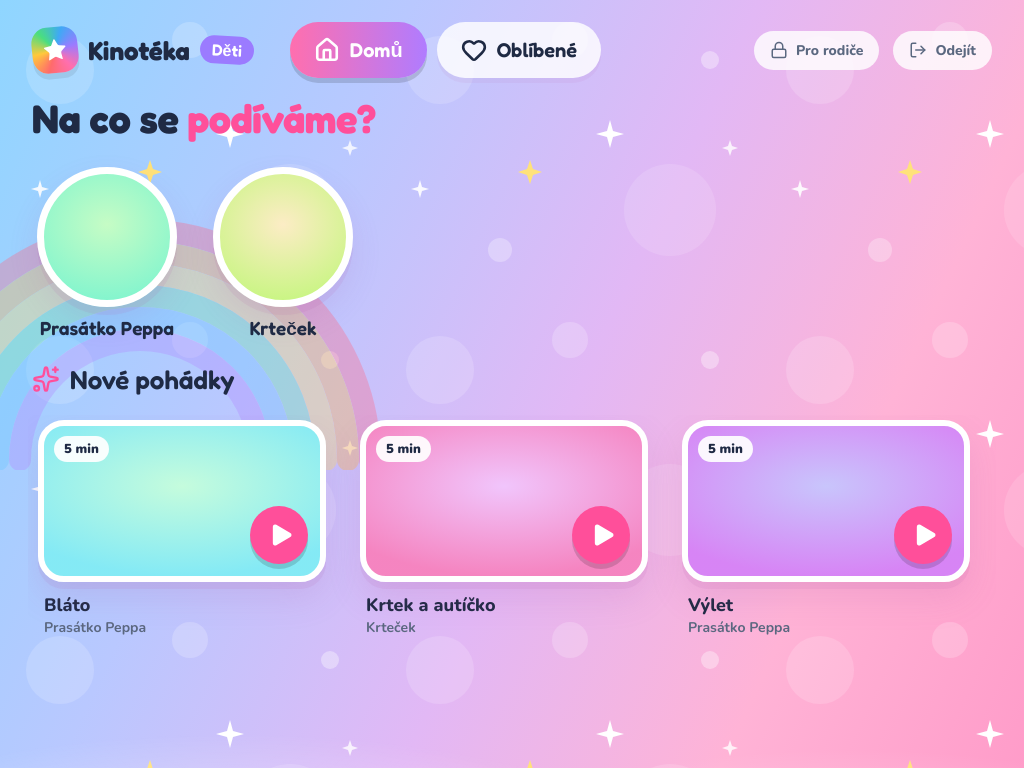
Test: KidsApp › vstup zamkne dětský režim; Pro rodiče chce PIN
The width and height of the screenshot is (1024, 768).
Later steps or results of the test are not shown.
What coordinates should you click on to do the following:
click the button "Pro rodiče"
I would click on:
 (817, 50)
Its box is top-left (754, 30), bottom-right (879, 70).
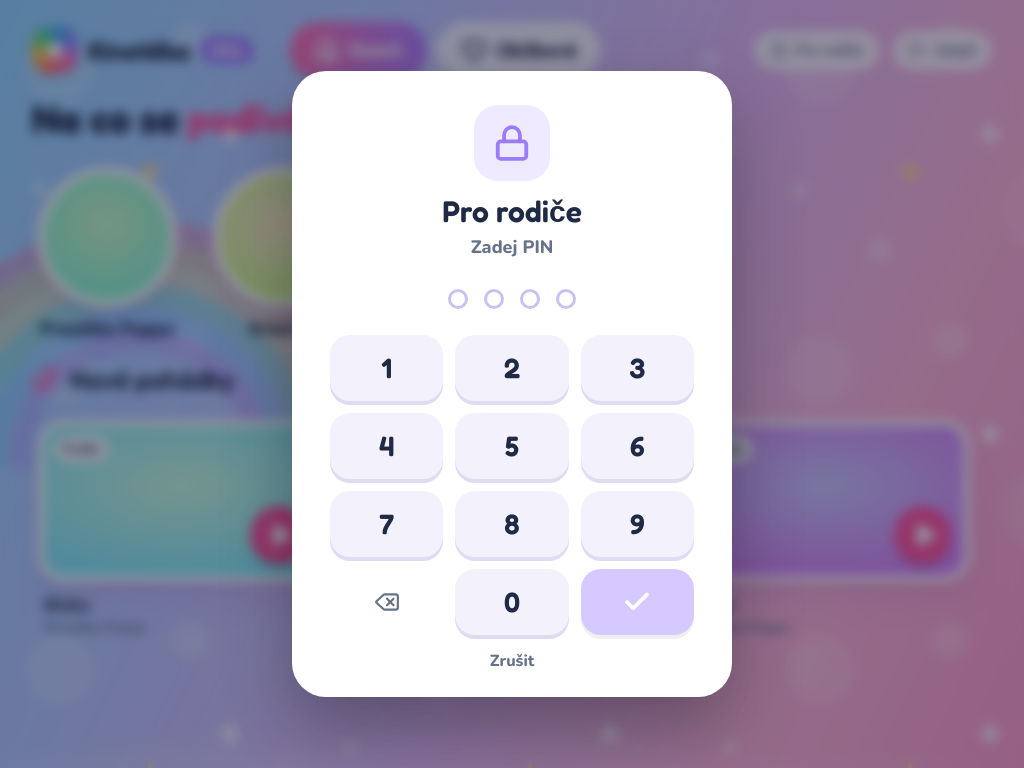
Expected: the text "Zadej PIN" is shown, top-left (471, 235), bottom-right (553, 259)
What coordinates should you click on to do the following:
click the button "1"
I would click on:
 (387, 368)
Its box is top-left (330, 335), bottom-right (443, 401).
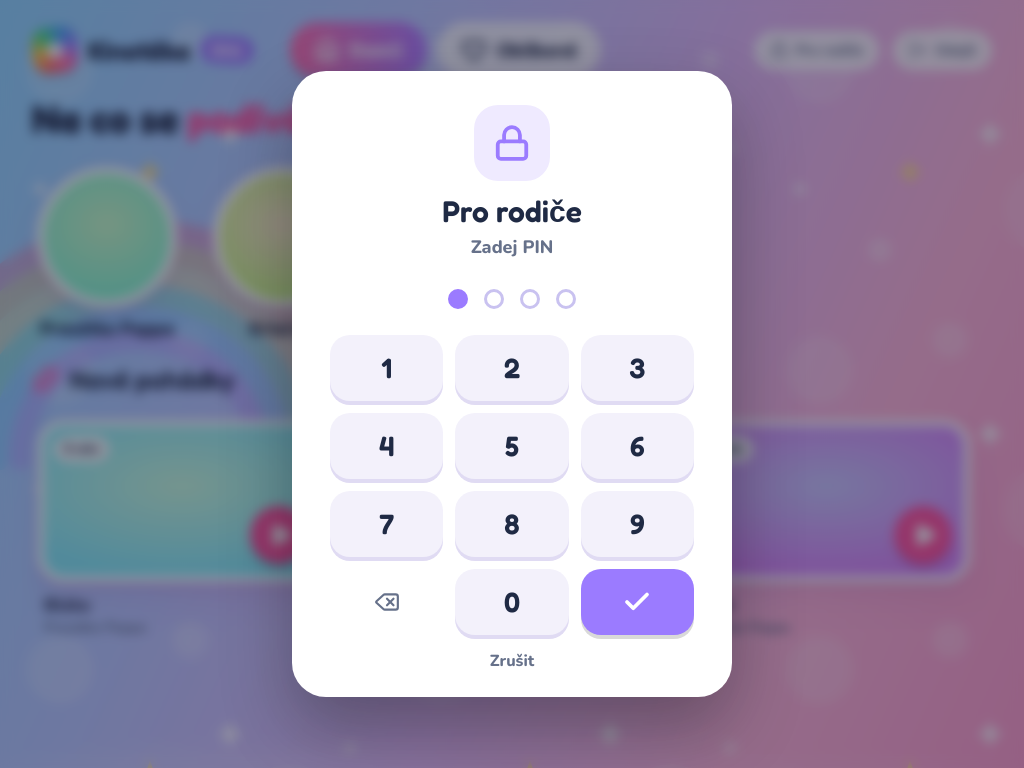
What coordinates should you click on to do the following:
click the button "1"
I would click on:
 (387, 368)
Its box is top-left (330, 335), bottom-right (443, 401).
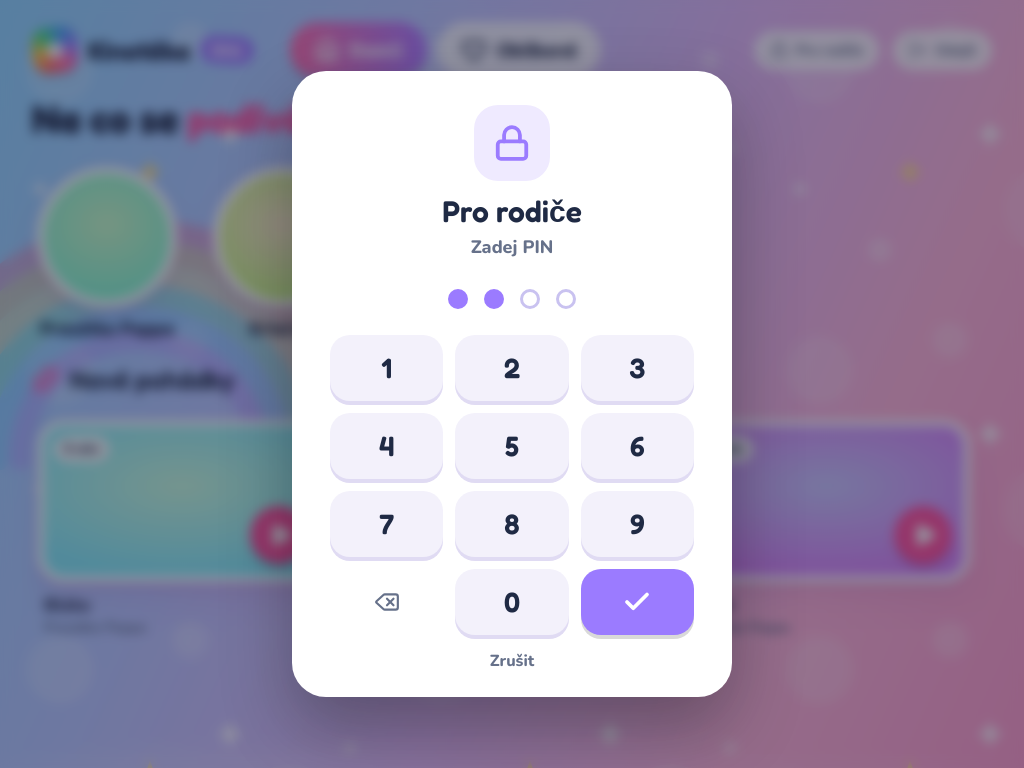
What coordinates should you click on to do the following:
click the button "1"
I would click on:
 (387, 368)
Its box is top-left (330, 335), bottom-right (443, 401).
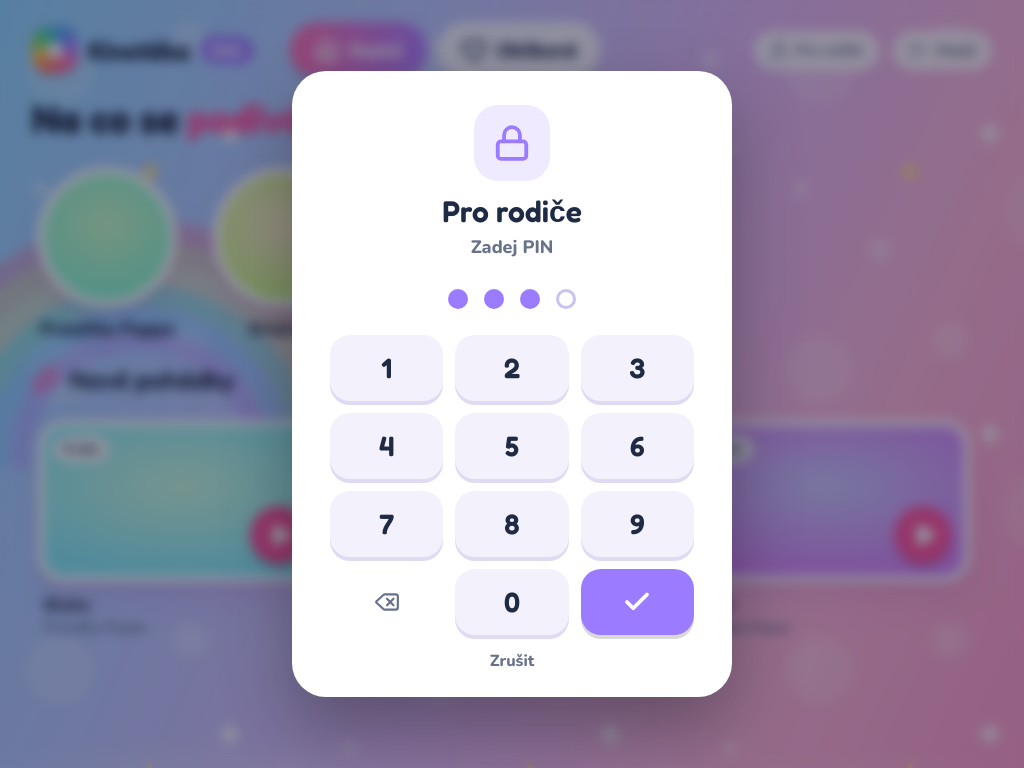
What coordinates should you click on to do the following:
click the button "1"
I would click on:
 (387, 368)
Its box is top-left (330, 335), bottom-right (443, 401).
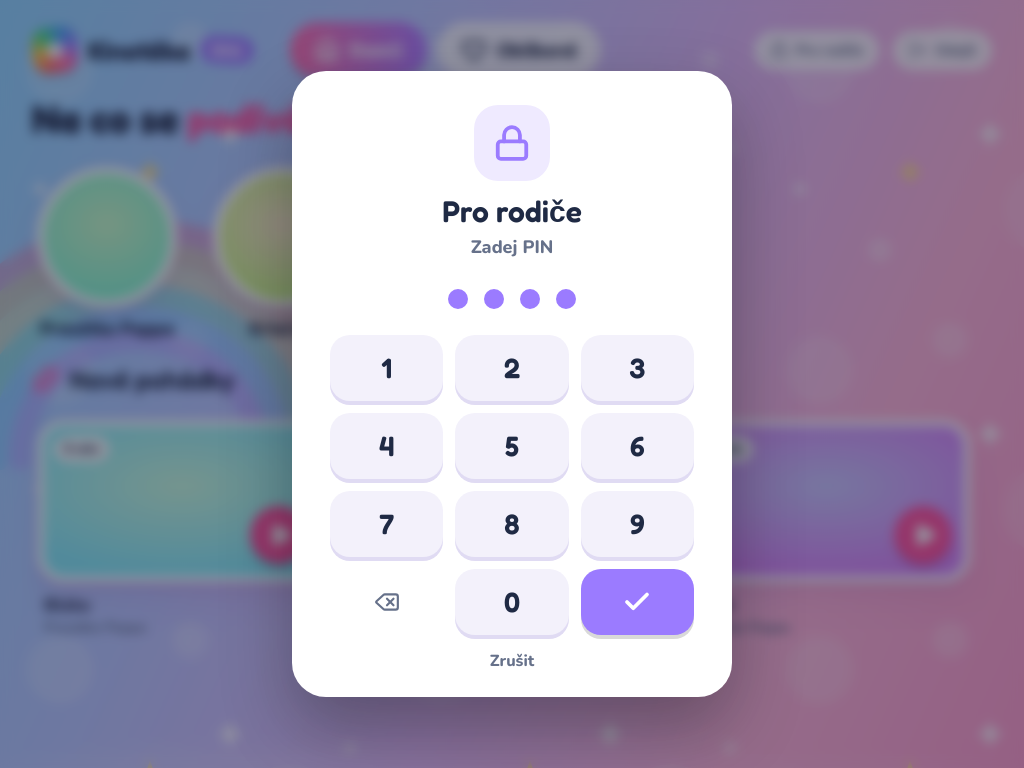
What coordinates should you click on to do the following:
click the button titled "Potvrdit"
I would click on:
 (637, 602)
Its box is top-left (581, 569), bottom-right (694, 635).
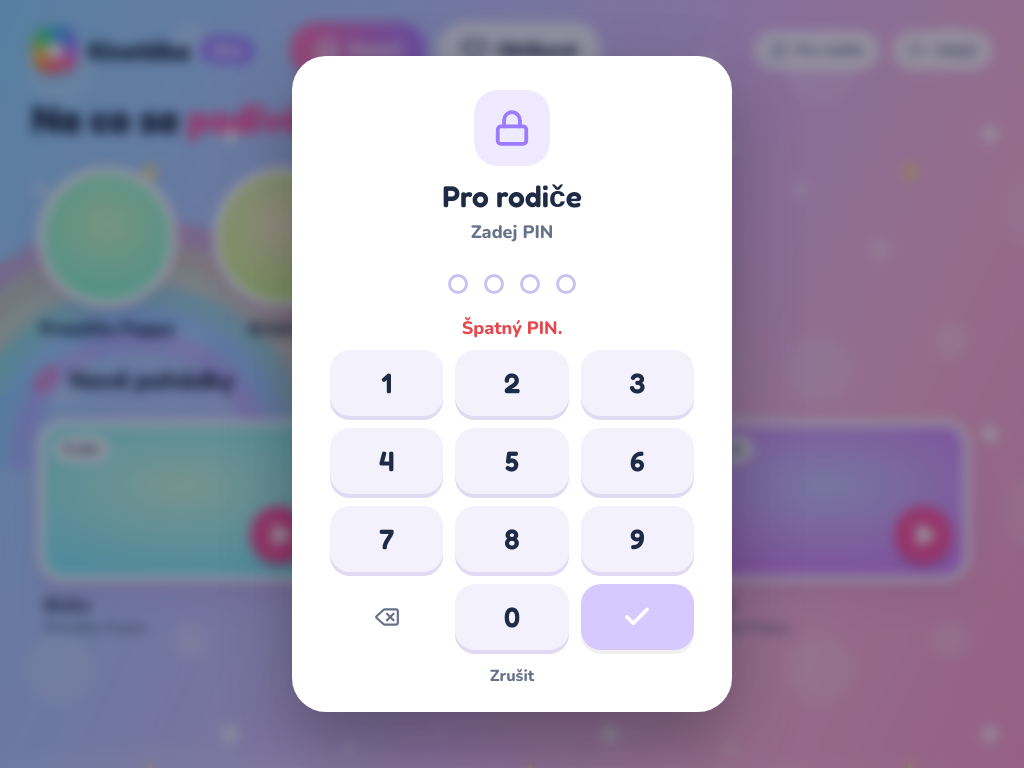
Expected: the text "Špatný PIN." is shown, top-left (462, 316), bottom-right (562, 340)
